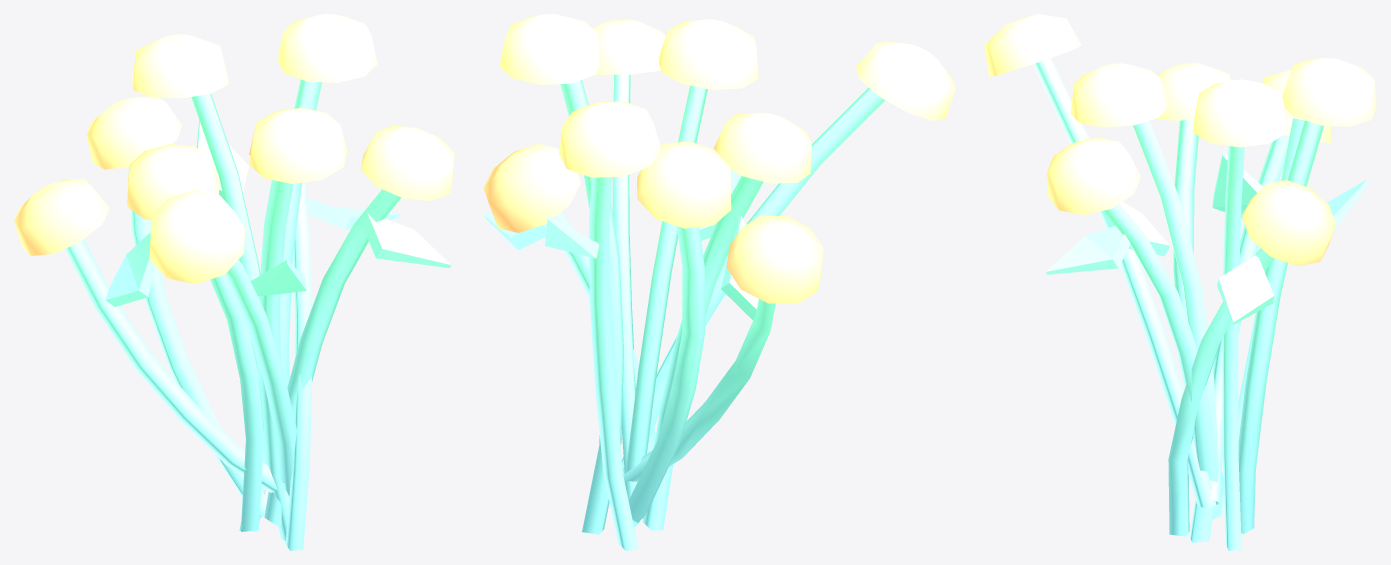
File: Dandelion_Yellow.glb
The picture shows the model from 3 angles, left to right: view 1: azimuth 30°, elevation 25°; view 2: azimuth 150°, elevation 25°; view 3: azimuth 270°, elevation 25°; orthographic projection. The views are drawn at different scales.
Visible parts, largest first — view 1: Dandelion_Yellow_Material #150_0; view 2: Dandelion_Yellow_Material #150_0; view 3: Dandelion_Yellow_Material #150_0.
Part boxes in pixels (left/top/right/bottom): Dandelion_Yellow_Material #150_0: left=14, top=14, right=454, bottom=550; Dandelion_Yellow_Material #150_0: left=483, top=14, right=955, bottom=550; Dandelion_Yellow_Material #150_0: left=984, top=14, right=1376, bottom=550.
Bounding box in the file's own units: 0.5797 × 0.7683 × 0.5694.
